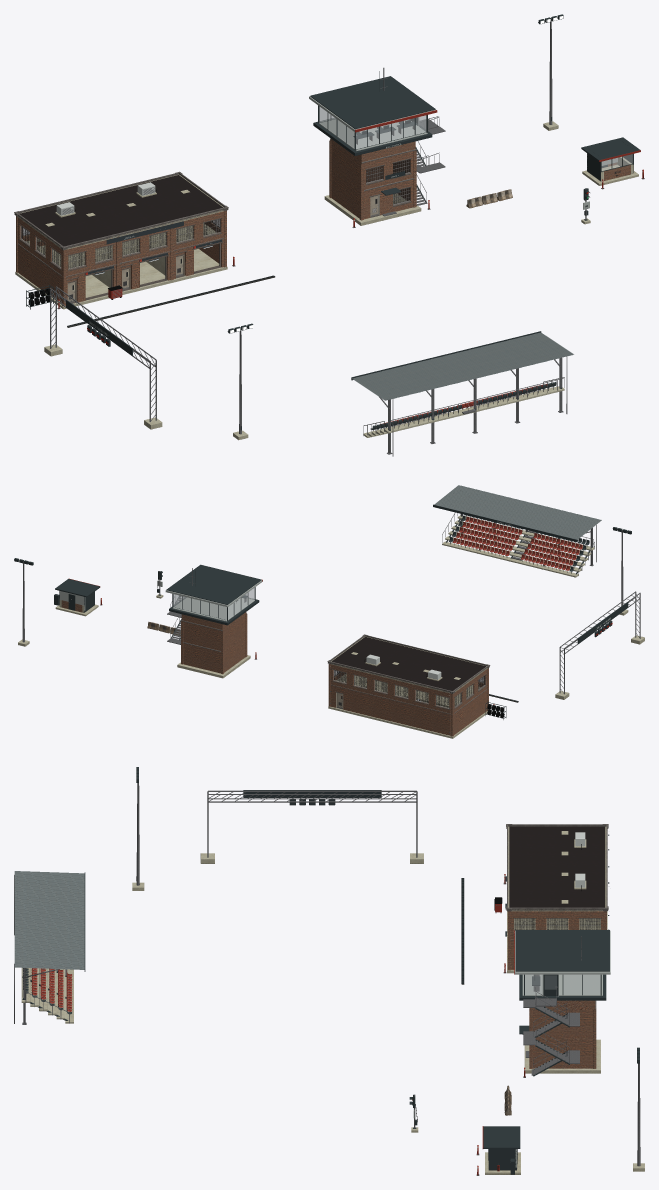
Rendered from venue.gltf.
3 renders of one model, top to bottom at view 1: azimuth 30°, elevation 25°; view 2: azimuth 150°, elevation 25°; view 3: azimuth 270°, elevation 25°, orthographic. The views are drawn at different scales.
Visible parts, largest first — view 1: Longwan_Pit_Building.001, A02_Race_Control.001, A04_Trackside_Grandstand.001, F07_Timing_Gantry.001, A03_Marshal_Post.001; view 2: Longwan_Pit_Building.001, A04_Trackside_Grandstand.001, A02_Race_Control.001, F07_Timing_Gantry.001, A03_Marshal_Post.001; view 3: A02_Race_Control.001, Longwan_Pit_Building.001, A04_Trackside_Grandstand.001, F07_Timing_Gantry.001, A03_Marshal_Post.001.
Part boxes in pixels (x1,y1,x2,y2): Longwan_Pit_Building.001: (14,171,228,309); A02_Race_Control.001: (309,67,445,225); A04_Trackside_Grandstand.001: (351,331,573,456); F07_Timing_Gantry.001: (44,286,162,429); A03_Marshal_Post.001: (581,137,640,185); Longwan_Pit_Building.001: (327,634,490,738); A04_Trackside_Grandstand.001: (433,485,601,577); A02_Race_Control.001: (165,564,262,678); F07_Timing_Gantry.001: (555,591,644,699); A03_Marshal_Post.001: (54,578,100,616); A02_Race_Control.001: (514,930,610,1076); Longwan_Pit_Building.001: (505,824,609,973); A04_Trackside_Grandstand.001: (14,871,85,1024); F07_Timing_Gantry.001: (200,790,423,863); A03_Marshal_Post.001: (482,1126,520,1174).
Bounding box in the file's own units: 69.81 × 13.67 × 57.96.
Materials: 36 (20 with a texture image).
